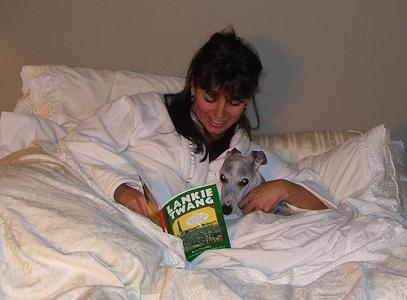person: (2, 32, 332, 300)
